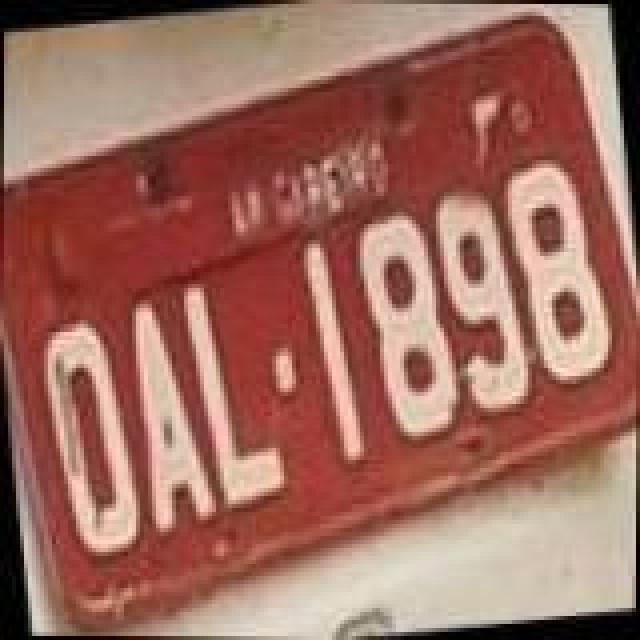1: (296, 234, 376, 470)
8: (496, 154, 624, 398), (348, 206, 468, 446)
9: (422, 182, 538, 422)
A: (124, 300, 224, 544)
L: (176, 274, 292, 514)
O: (36, 314, 152, 566)
